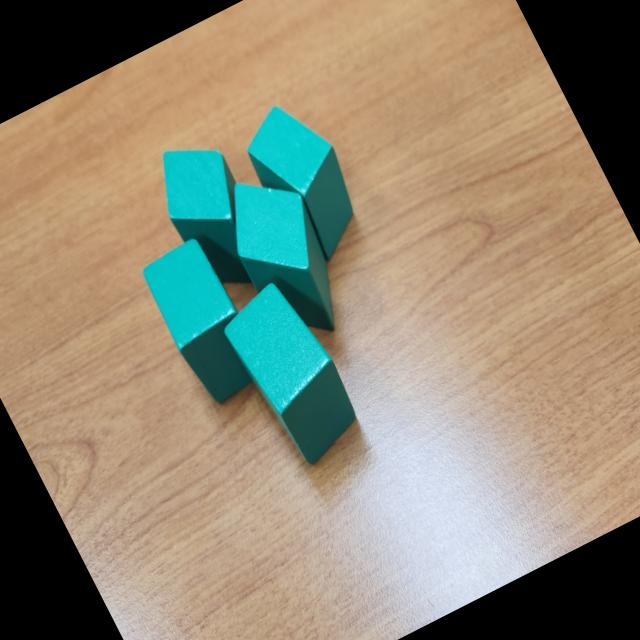green: (213, 272, 371, 473), (208, 157, 364, 354), (234, 91, 378, 271), (140, 126, 282, 303), (135, 235, 273, 412)
